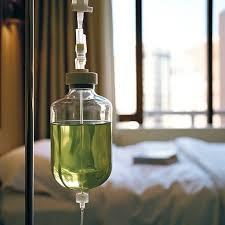Iv_Bottle: (50, 69, 111, 191)
